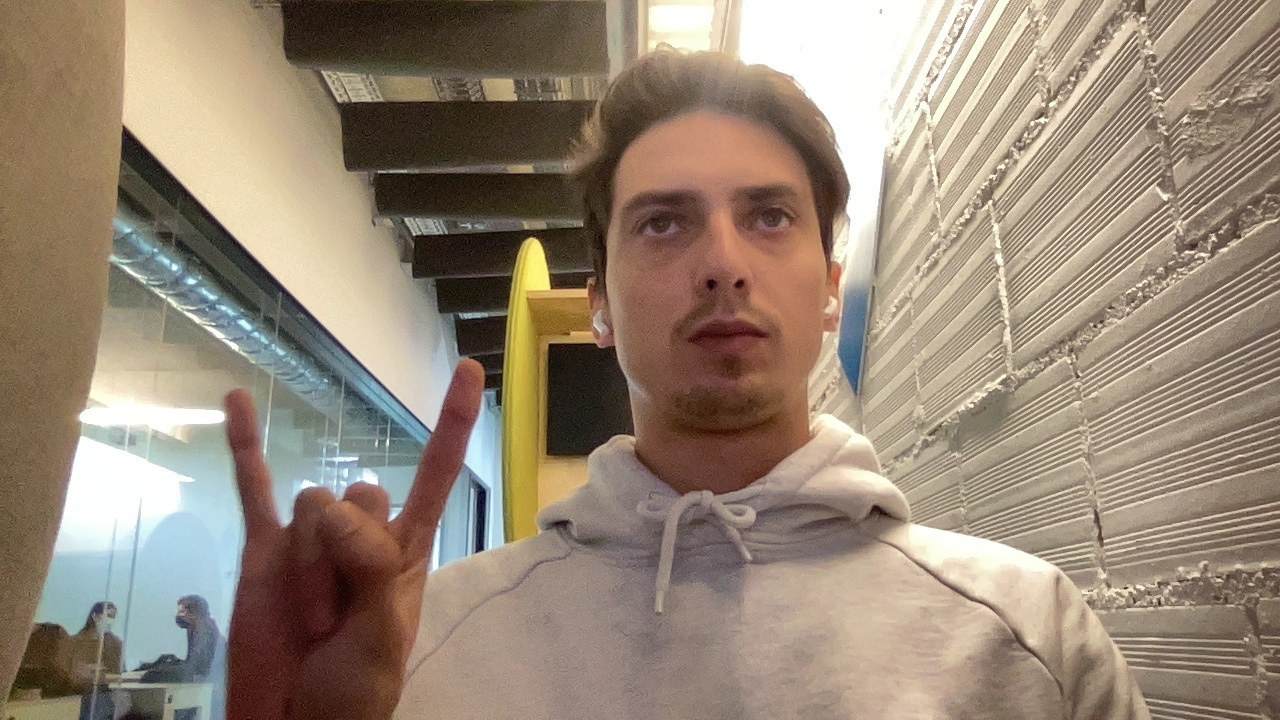iloveyou: (183, 360, 510, 713)
